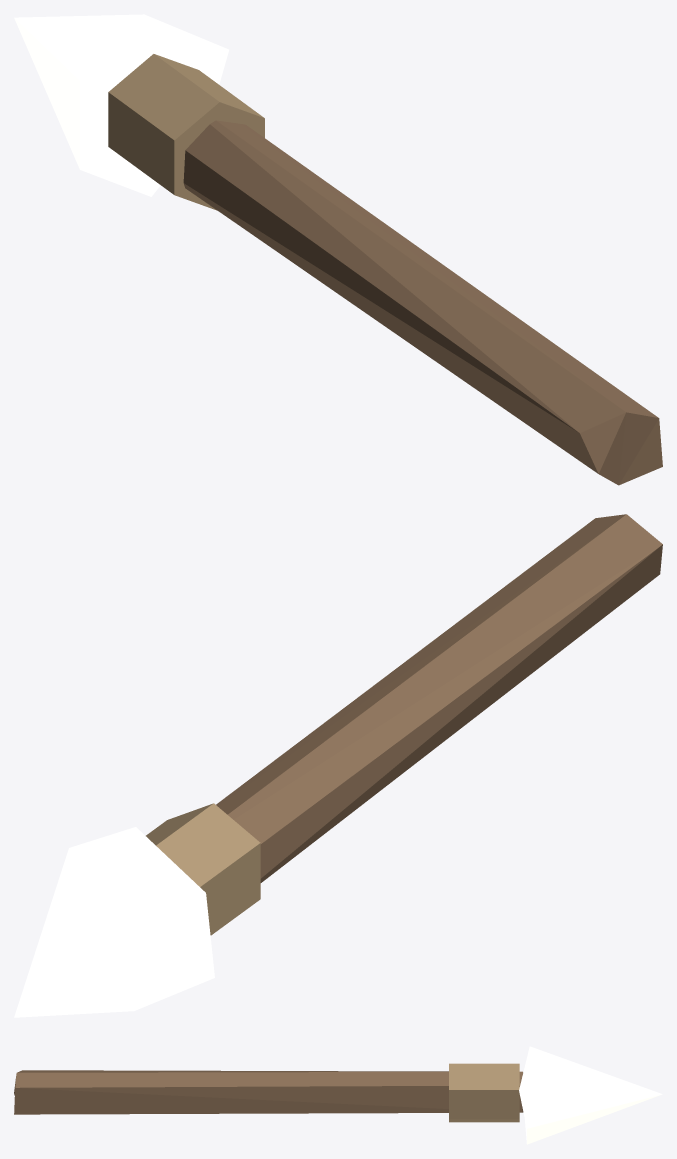
Rendered from Torch.fbx.
3 views of the same model, one above another, from view 1: azimuth 30°, elevation 25°; view 2: azimuth 150°, elevation 25°; view 3: azimuth 270°, elevation 25° (orthographic). The views are drawn at different scales.
Parts seen in each view (by area): view 1: fam_wood_dark, fam_flame_emit, fam_leather; view 2: fam_wood_dark, fam_flame_emit, fam_leather; view 3: fam_wood_dark, fam_flame_emit, fam_leather.
Boxes of the visible parts, x1,y1,x2,y2 form: fam_wood_dark: [183, 120, 662, 485]; fam_flame_emit: [14, 14, 228, 196]; fam_leather: [108, 54, 264, 210]; fam_wood_dark: [216, 514, 662, 882]; fam_flame_emit: [14, 827, 214, 1017]; fam_leather: [146, 803, 260, 935]; fam_wood_dark: [14, 1070, 523, 1114]; fam_flame_emit: [519, 1046, 662, 1144]; fam_leather: [449, 1063, 519, 1122].
Size of the model in its own units: 0.3114 by 0.3718 by 2.25.
